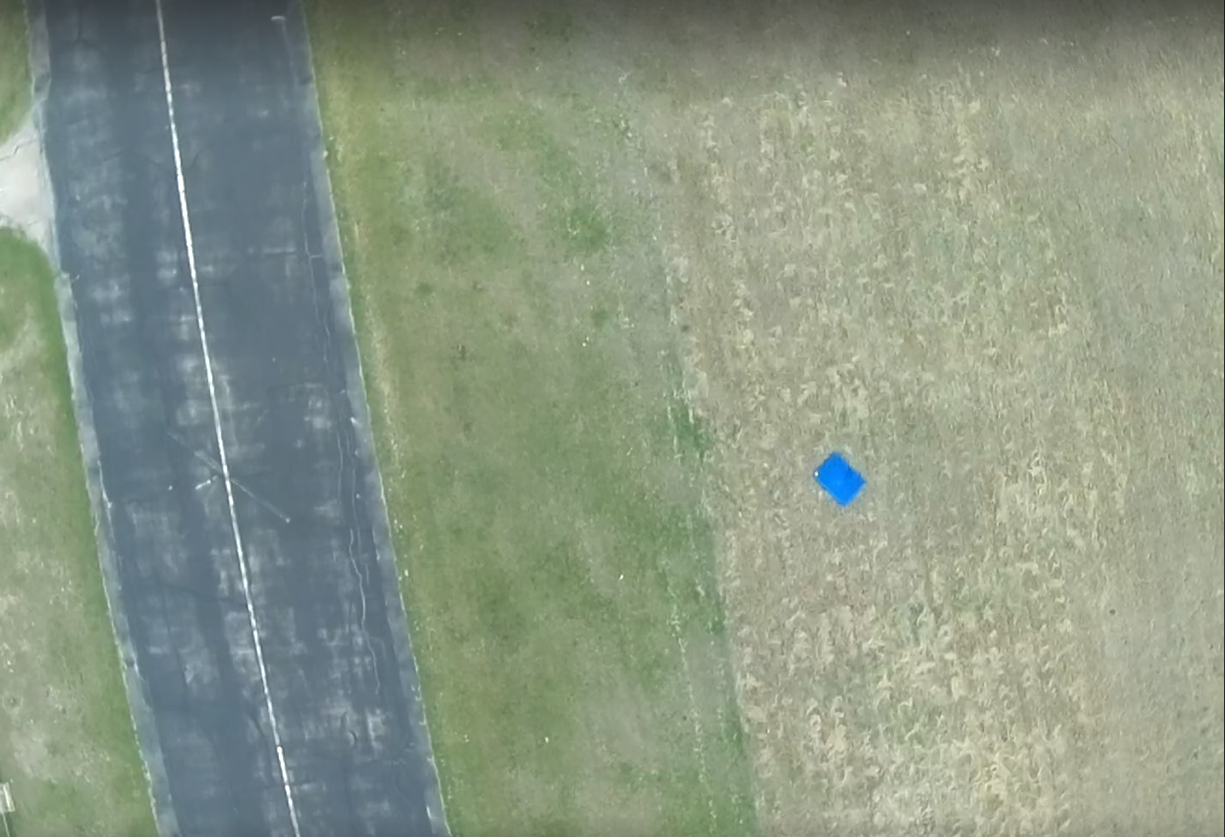TOI: (812, 450, 868, 508)
